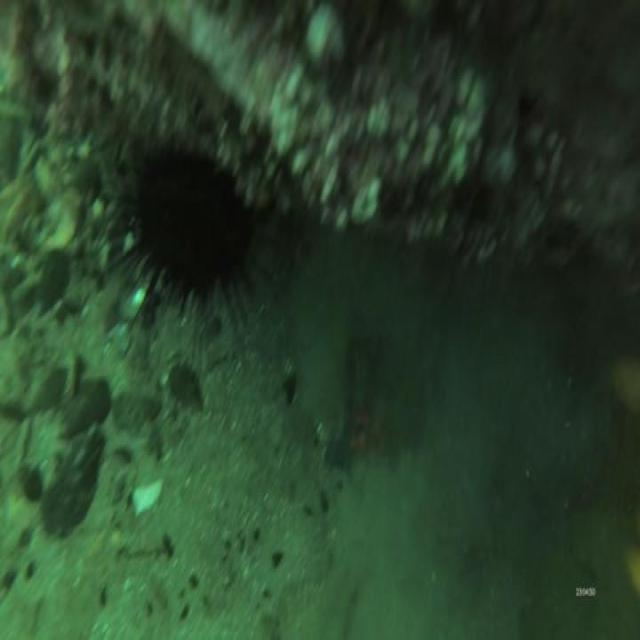echinus: (132, 146, 256, 300)
